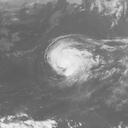cyclone: (42, 33, 97, 88)
